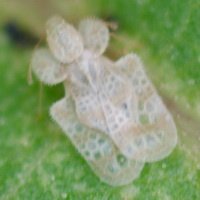insect: (32, 16, 176, 184)
